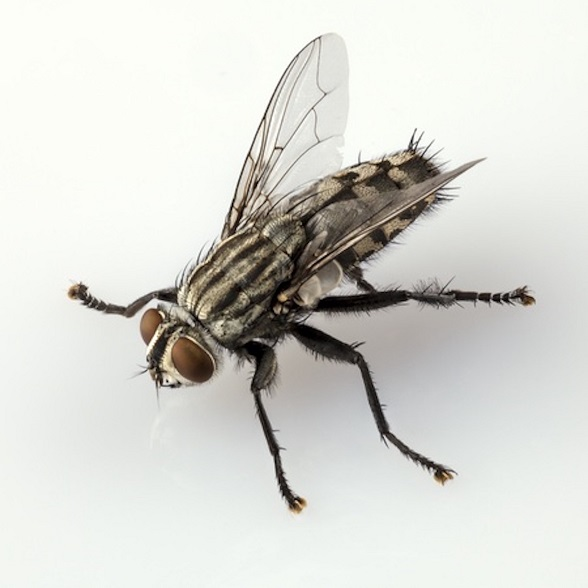phorid fly: (42, 8, 545, 537)
